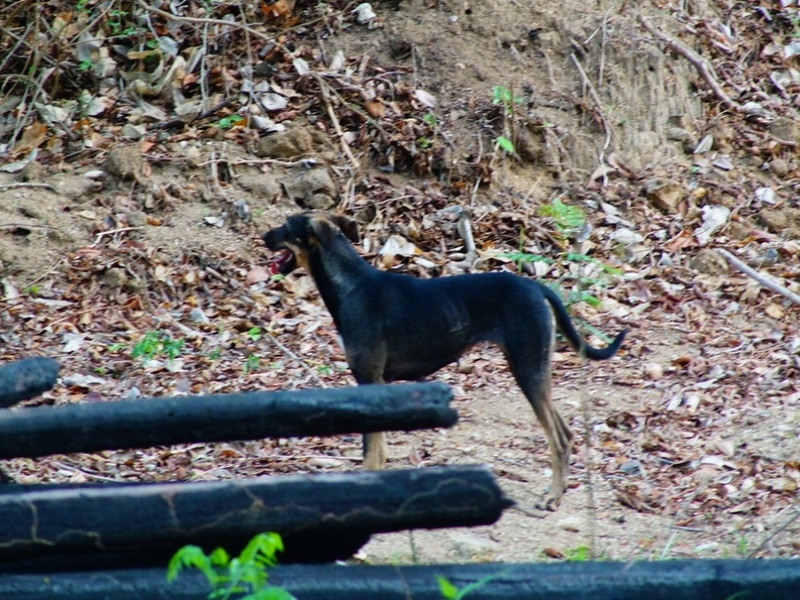dog: (262, 212, 637, 516)
